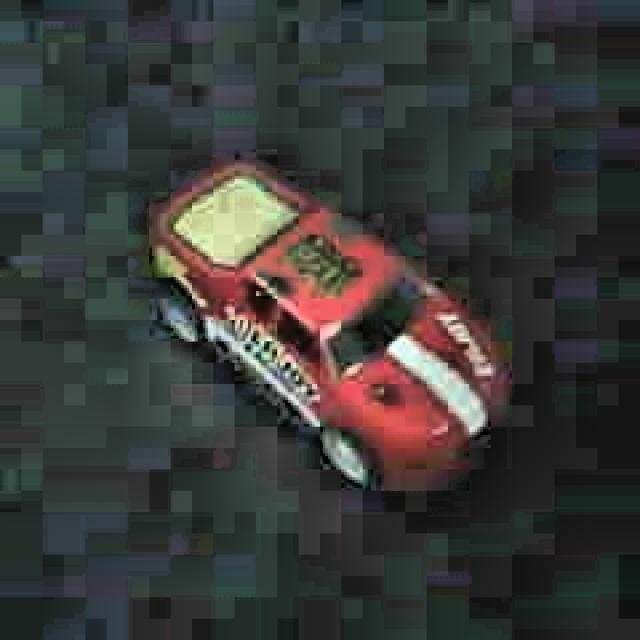car: (146, 152, 508, 498)
